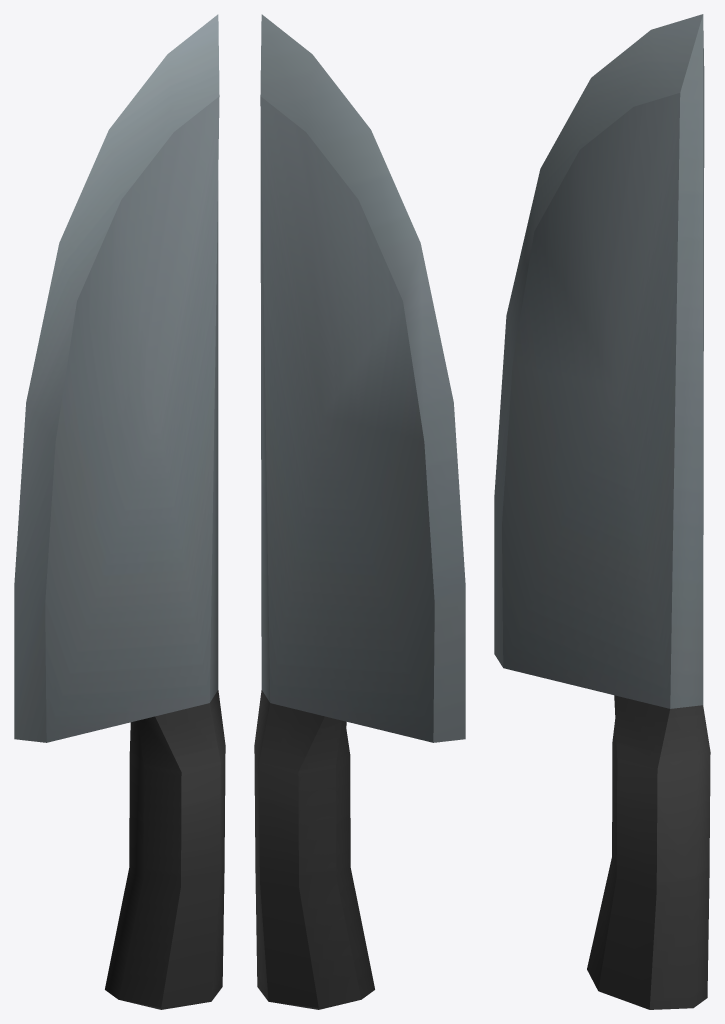
File: kaykit-restaurant-bits-knife.glb
The picture shows the model from 3 angles, left to right: view 1: azimuth 30°, elevation 25°; view 2: azimuth 150°, elevation 25°; view 3: azimuth 330°, elevation 25°; orthographic projection. The views are drawn at different scales.
Parts seen in each view (by area): view 1: knife; view 2: knife; view 3: knife.
Part boxes in pixels (left/top/right/bottom): knife: left=14, top=14, right=225, bottom=1009; knife: left=254, top=14, right=465, bottom=1009; knife: left=494, top=14, right=710, bottom=1009.
Size of the model in its own units: 0.25 by 1.15 by 0.1.
Materials: 1 (1 with a texture image).
